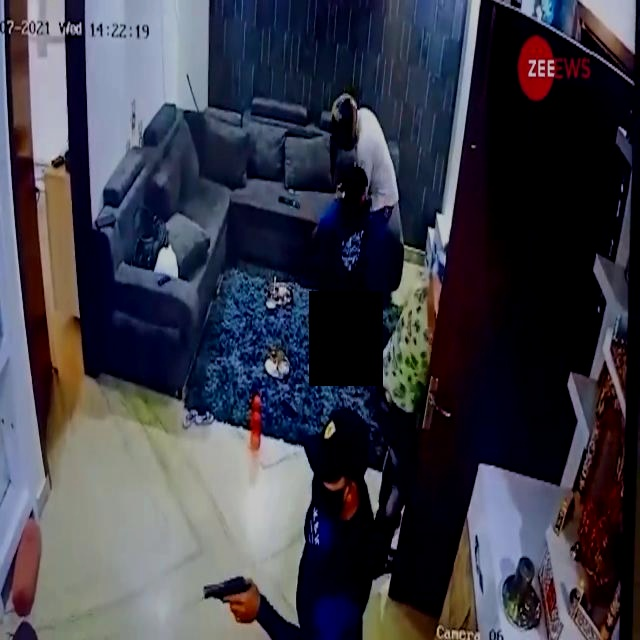gun: (201, 575, 257, 620)
